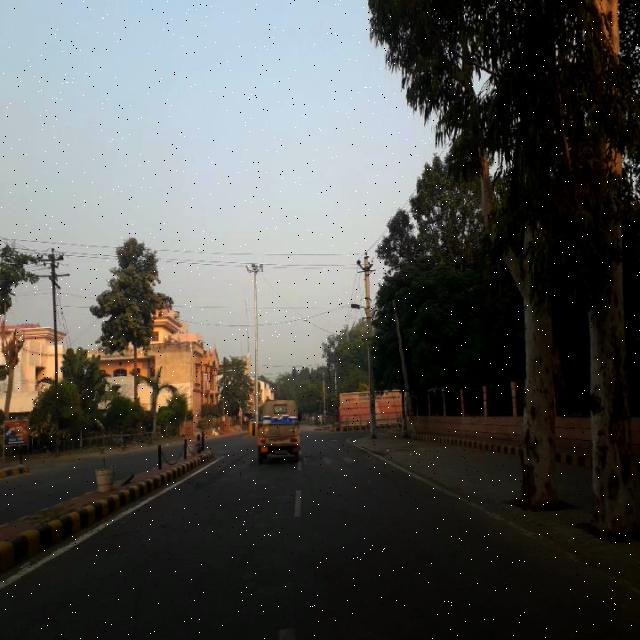D44: (536, 545, 640, 593), (460, 503, 542, 541)
